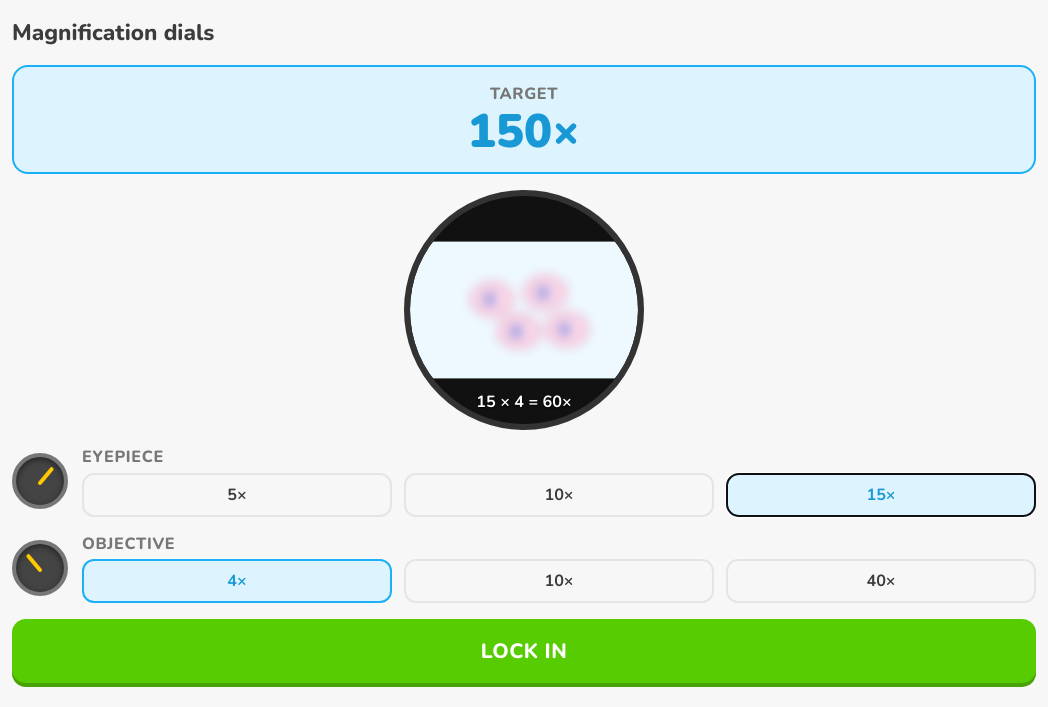
Magnification dials › locks in when eyepiece × objective = target, and explains a miss
Earlier steps of the test are not shown.
Later steps or results of the test are not shown.
Click the radio button labelled "10×" below "Objective". click: (559, 581)
box: [404,559,714,603]
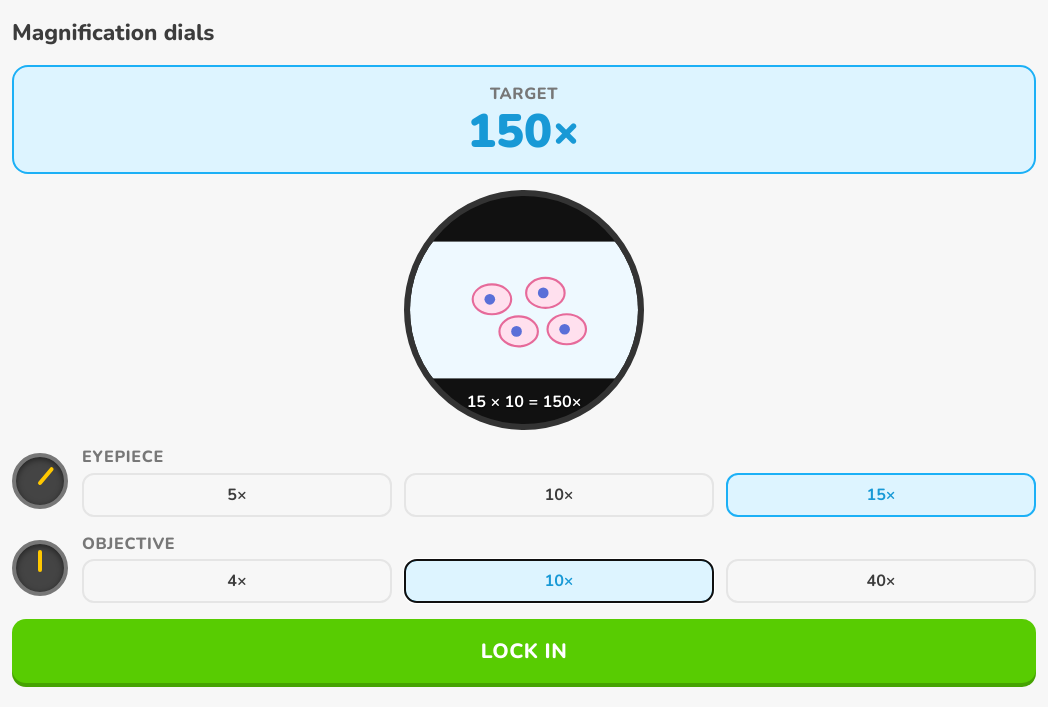
Click the button "Lock in". click: (524, 651)
box: [12,619,1036,683]
(page scrolled)
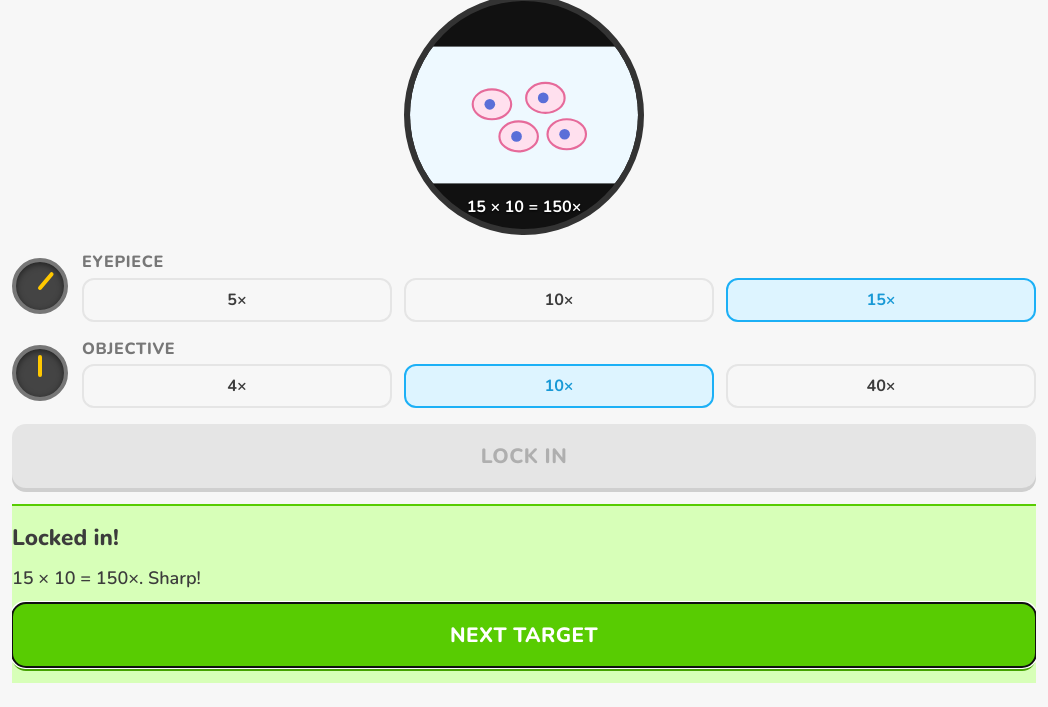
Expected: the heading "Locked in!" is shown, [12,522,119,553]
Click the button "Next target". click: (524, 635)
box: [12,603,1036,667]
(page scrolled)
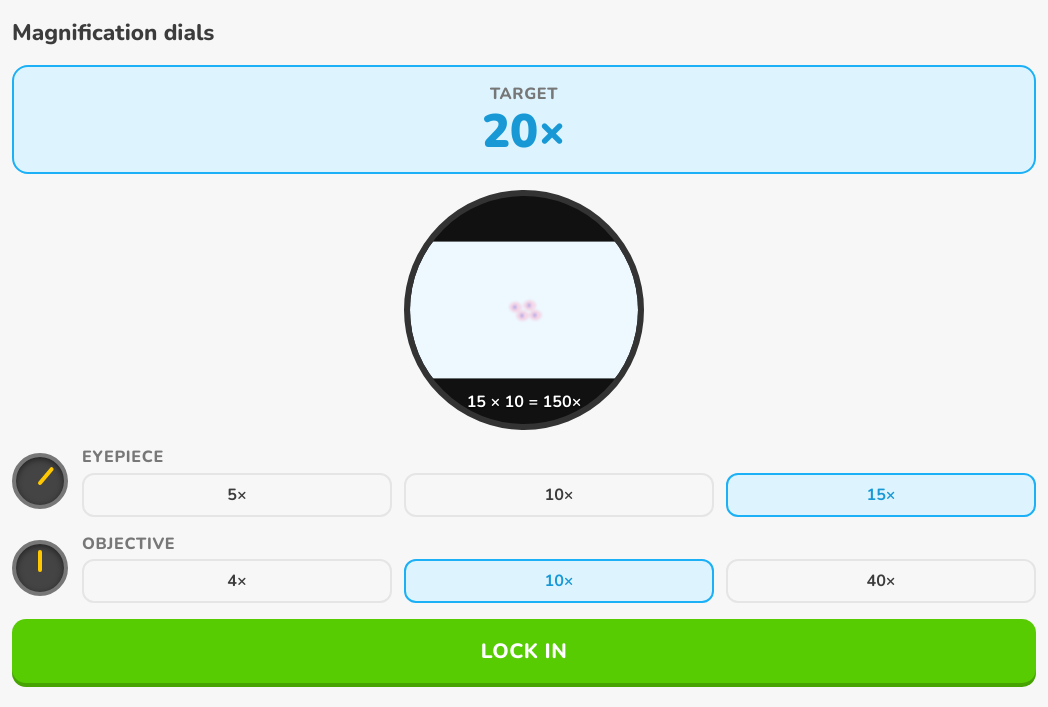
Click the radio button labelled "5×". click: (237, 495)
box: [82,473,392,517]
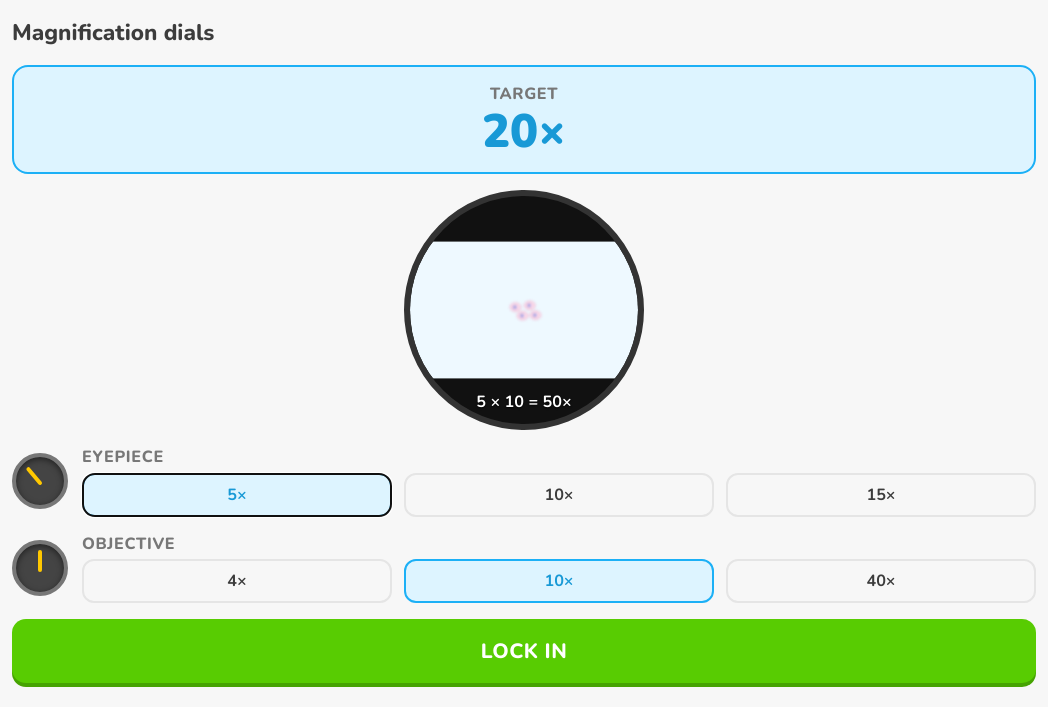
Click the radio button labelled "4×". click: (237, 581)
box: [82,559,392,603]
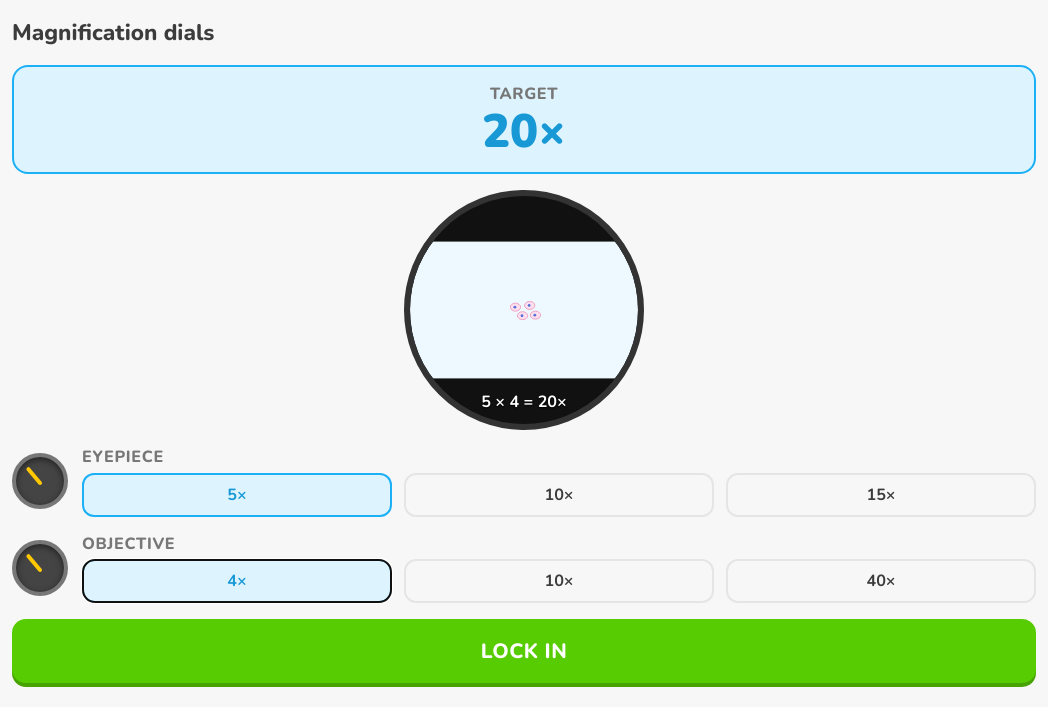
Click the button "Lock in". click: (524, 651)
box: [12,619,1036,683]
(page scrolled)
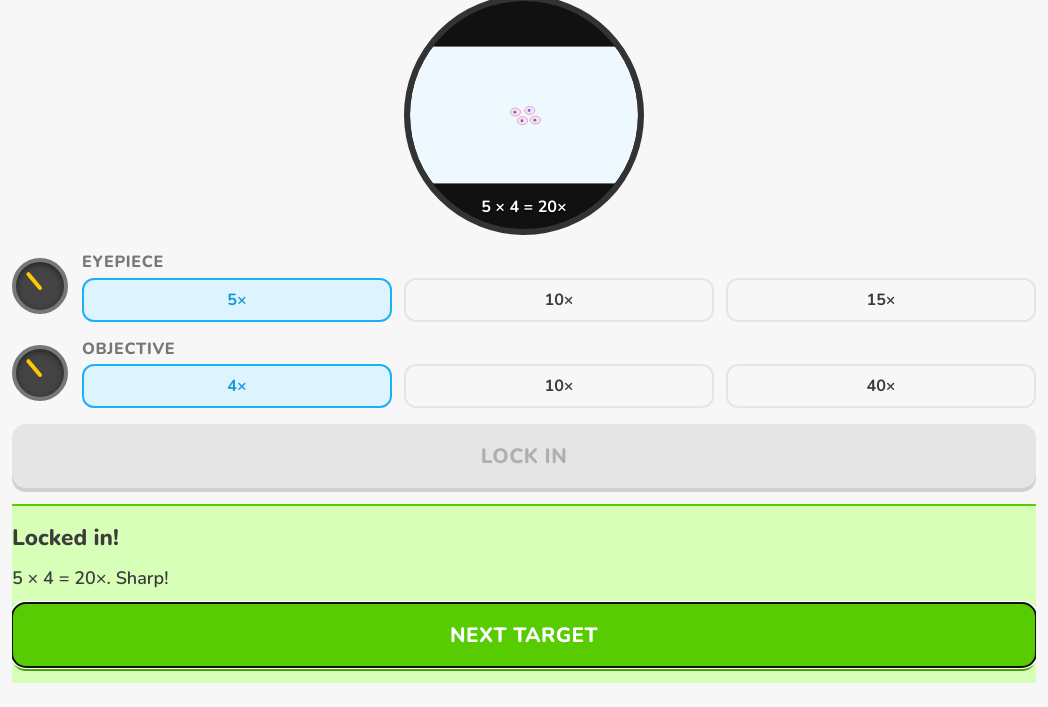
Expected: the heading "Locked in!" is shown, [12,522,119,553]
